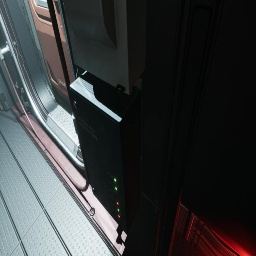SafetySwitchPanel ,: (62, 0, 146, 95)
